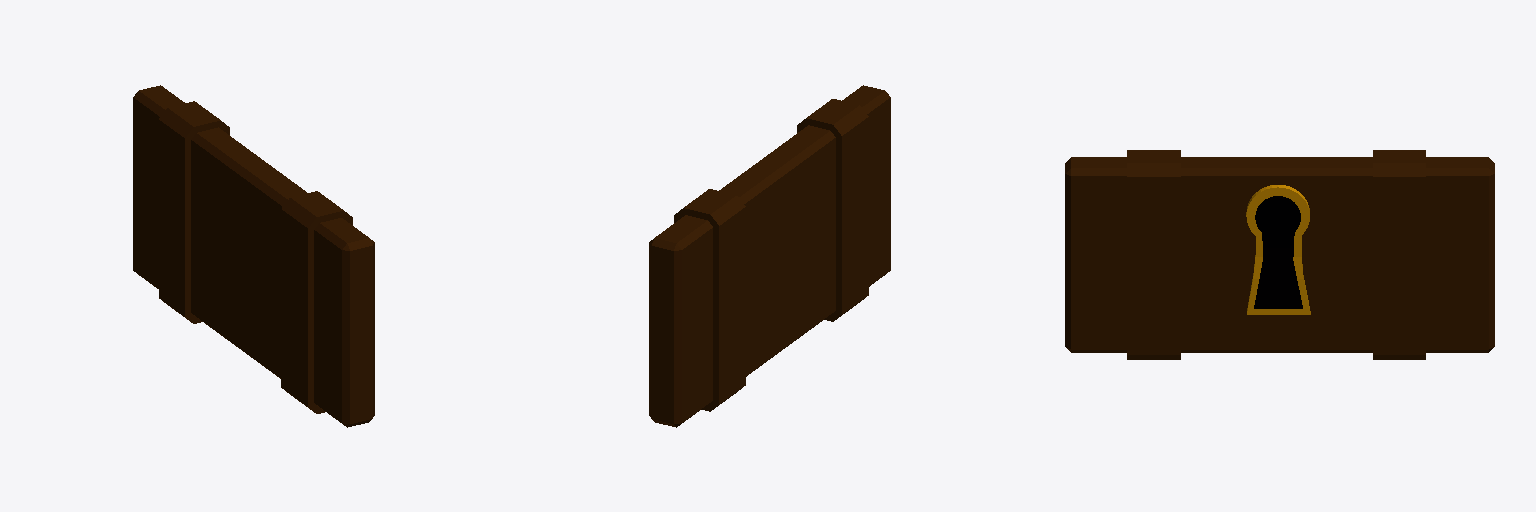
The model's file is lockedDoor.obj.
3 renders of one model, left to right at view 1: azimuth 30°, elevation 25°; view 2: azimuth 150°, elevation 25°; view 3: azimuth 270°, elevation 25°, orthographic.
Parts seen in each view (by area): view 1: Cube.002_Cube.003; view 2: Cube.002_Cube.003; view 3: Cube.002_Cube.003, Cube.001_Cube.005, Cube_Cube.004.
Boxes of the visible parts, box(x1,y1,x2,y2) form: Cube.002_Cube.003: box(133, 85, 374, 427); Cube.002_Cube.003: box(649, 85, 890, 427); Cube.002_Cube.003: box(1065, 150, 1494, 359); Cube.001_Cube.005: box(1254, 196, 1302, 308); Cube_Cube.004: box(1246, 185, 1310, 314).
Size of the model in its own units: 2.28 by 8.81 by 17.39.